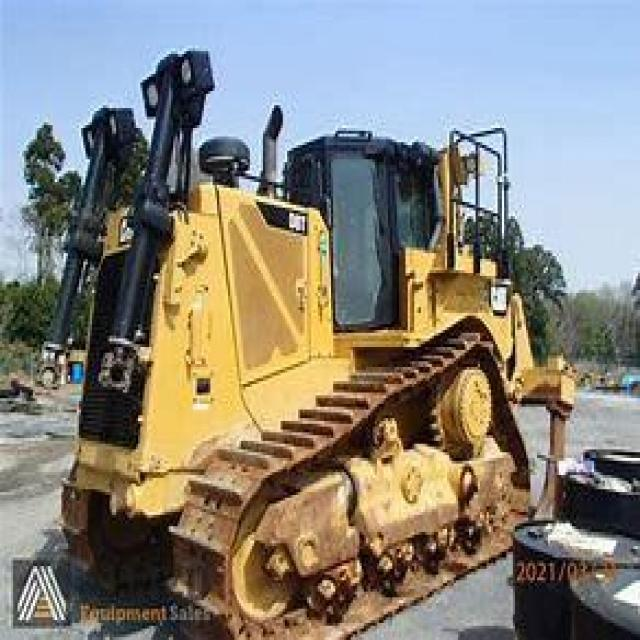Bulldozer: (31, 26, 585, 637)
